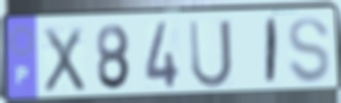4: (143, 20, 182, 92)
8: (94, 22, 132, 94)
I: (264, 16, 281, 87)
S: (286, 15, 333, 86)
U: (187, 17, 235, 91)
X: (41, 24, 88, 95)
